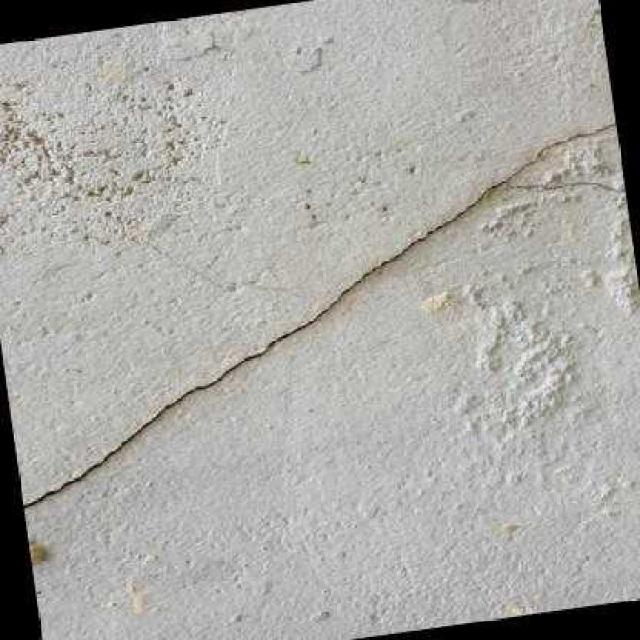D00: (22, 120, 625, 507)
